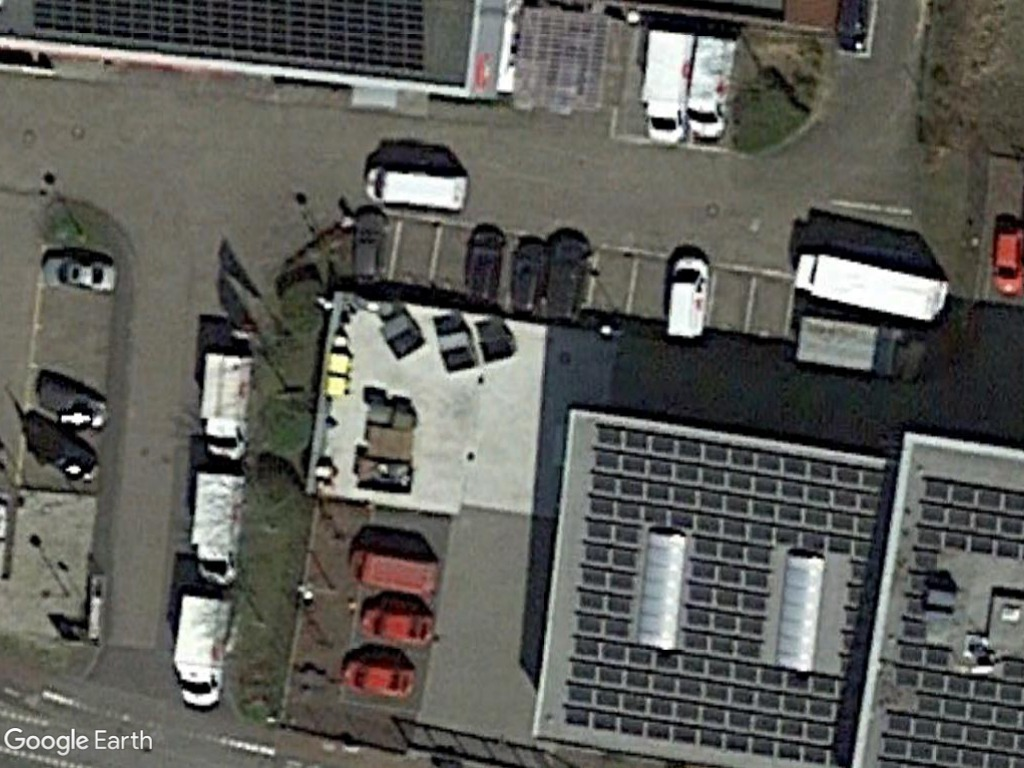car: (335, 655, 418, 700), (39, 253, 121, 295), (989, 224, 1024, 299)
truck: (786, 248, 952, 325), (170, 589, 235, 712), (636, 25, 696, 150), (187, 467, 245, 593), (193, 349, 255, 463), (679, 29, 738, 147)
van: (360, 163, 471, 216), (661, 255, 711, 344)
